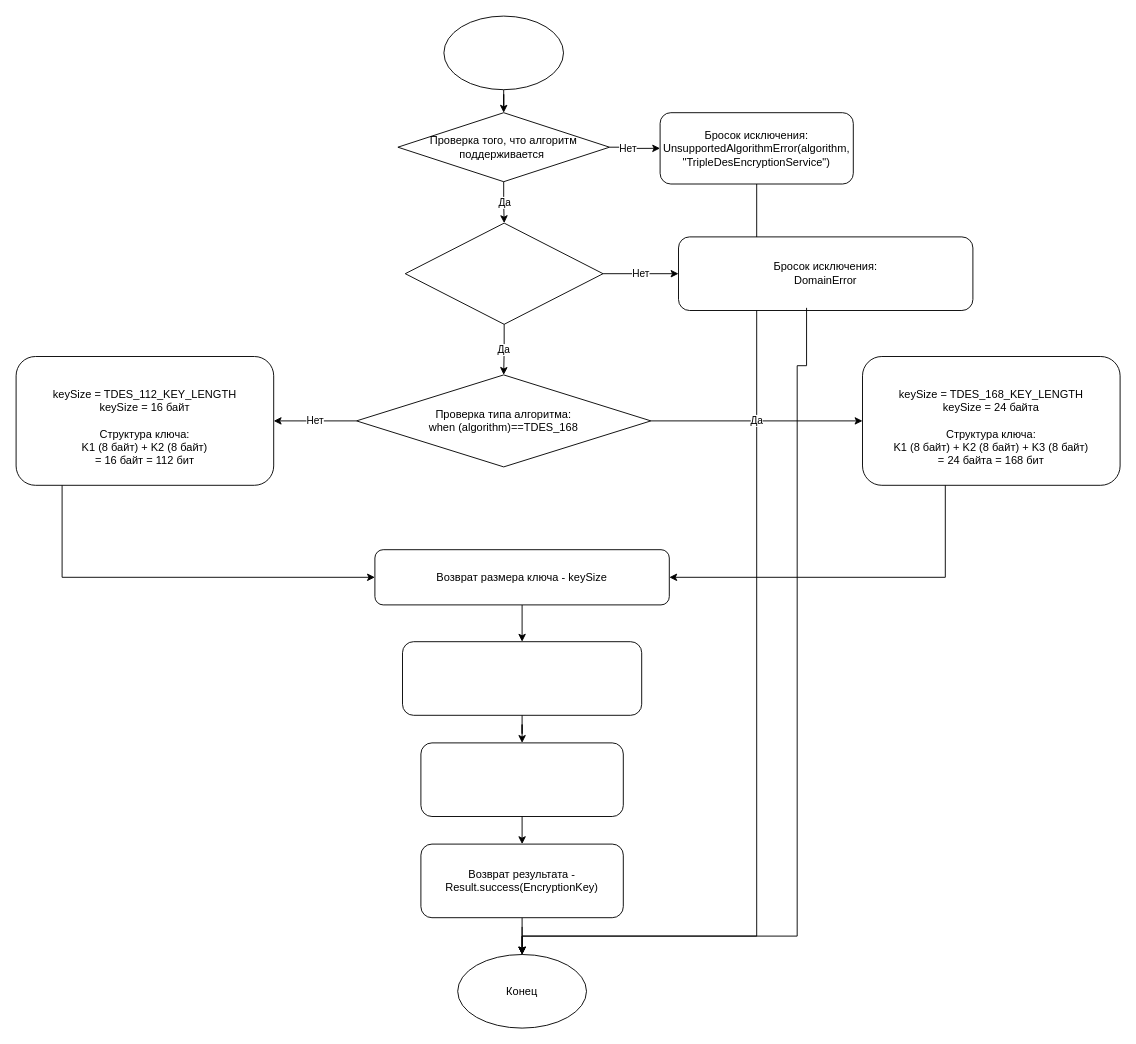
This 1136x1044 diagram has some shape labels left out. Here are the shapes that lost their labels. From the top down, the centre of each, then its label:
At point (503, 52): "Начало".
At point (503, 273): "Проверка длины ключа в зависимости от типа 3DES".
At point (522, 678): "keyBytes = ByteArray(keySize) SecureRandom().nextBytes(keyBytes)".
At point (521, 779): "EncryptionKey( value = keyBytes, algorithm = algorithm )".
